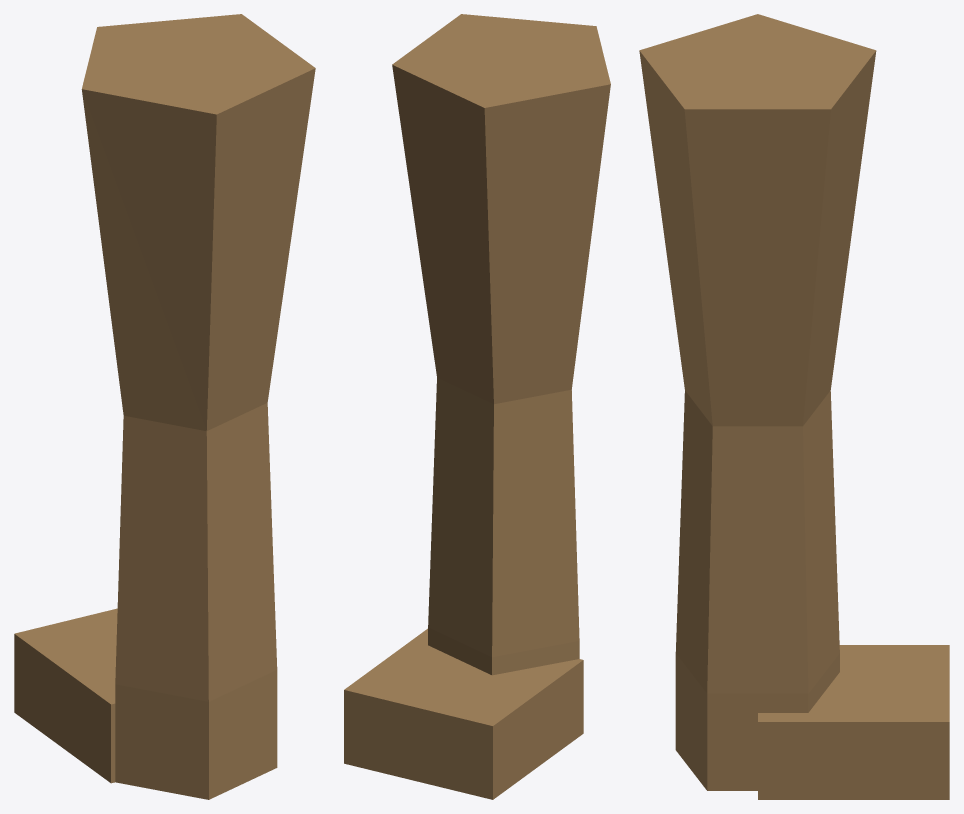
Rendered from animal_cougar_leg.obj.
3 views of the same model, side by side, from view 1: azimuth 30°, elevation 25°; view 2: azimuth 150°, elevation 25°; view 3: azimuth 270°, elevation 25° (orthographic). The views are drawn at different scales.
Visible parts, largest first — view 1: animal_cougar_leg; view 2: animal_cougar_leg; view 3: animal_cougar_leg.
Boxes of the visible parts, box(x1,y1,x2,y2) form: animal_cougar_leg: box(14, 14, 315, 799); animal_cougar_leg: box(344, 14, 610, 799); animal_cougar_leg: box(639, 14, 949, 799).
Size of the model in its own units: 0.1304 by 0.4437 by 0.1796.
